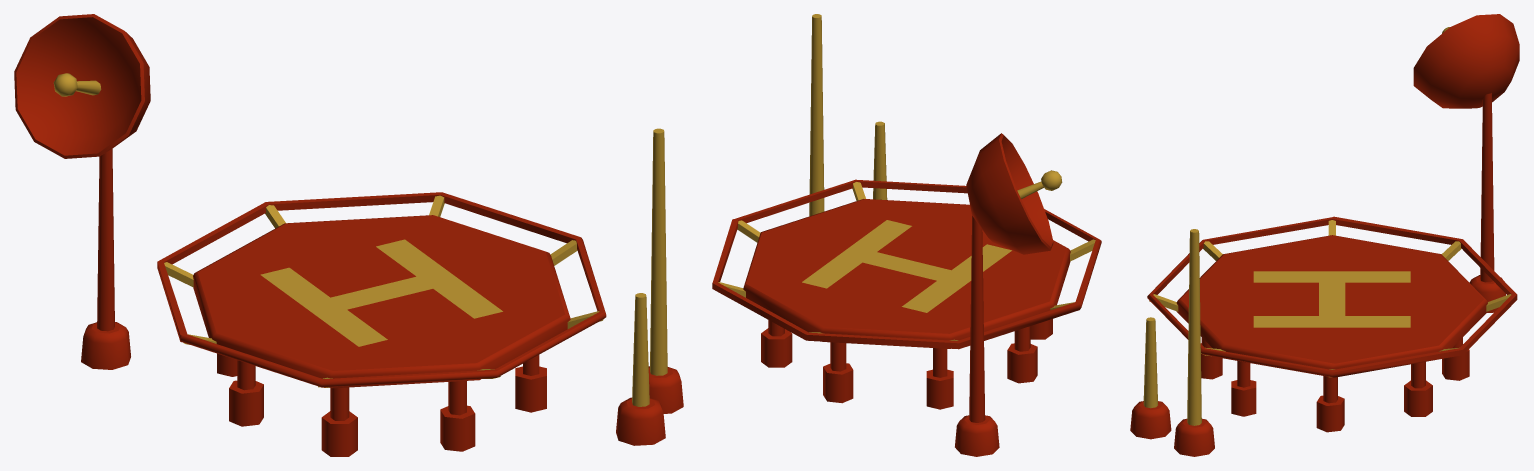
Rendered from Command center Top Solid.fbx.
3 views of the same model, side by side, from view 1: azimuth 30°, elevation 25°; view 2: azimuth 150°, elevation 25°; view 3: azimuth 270°, elevation 25° (orthographic). The views are drawn at different scales.
Visible parts, largest first — view 1: Command center Top; view 2: Command center Top; view 3: Command center Top.
Boxes of the visible parts, x1,y1,x2,y2 form: Command center Top: (14,14,683,456); Command center Top: (712,14,1101,456); Command center Top: (1130,14,1519,456).
Size of the model in its own units: 575 by 412 by 514.
